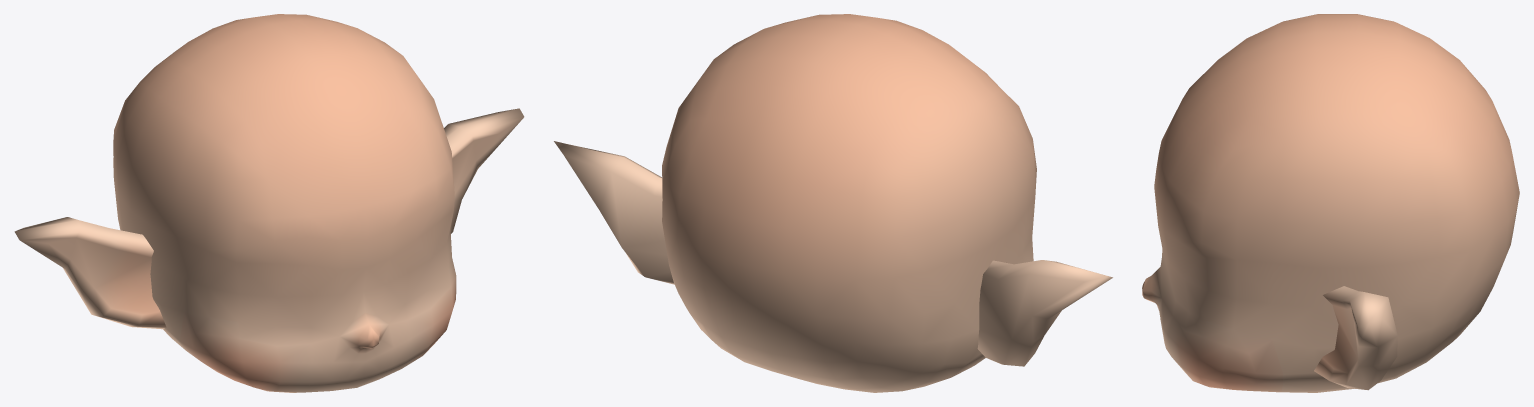
Rendered from Body_White_Head_2.fbx.
3 renders of one model, left to right at view 1: azimuth 30°, elevation 25°; view 2: azimuth 150°, elevation 25°; view 3: azimuth 270°, elevation 25°, orthographic. The views are drawn at different scales.
Visible parts, largest first — view 1: Body_White_Head_2; view 2: Body_White_Head_2; view 3: Body_White_Head_2.
Boxes of the visible parts, x1,y1,x2,y2 form: Body_White_Head_2: [14, 14, 524, 392]; Body_White_Head_2: [554, 14, 1112, 392]; Body_White_Head_2: [1142, 14, 1519, 392].
Bounding box in the file's own units: 88.45 × 52.19 × 53.9.
